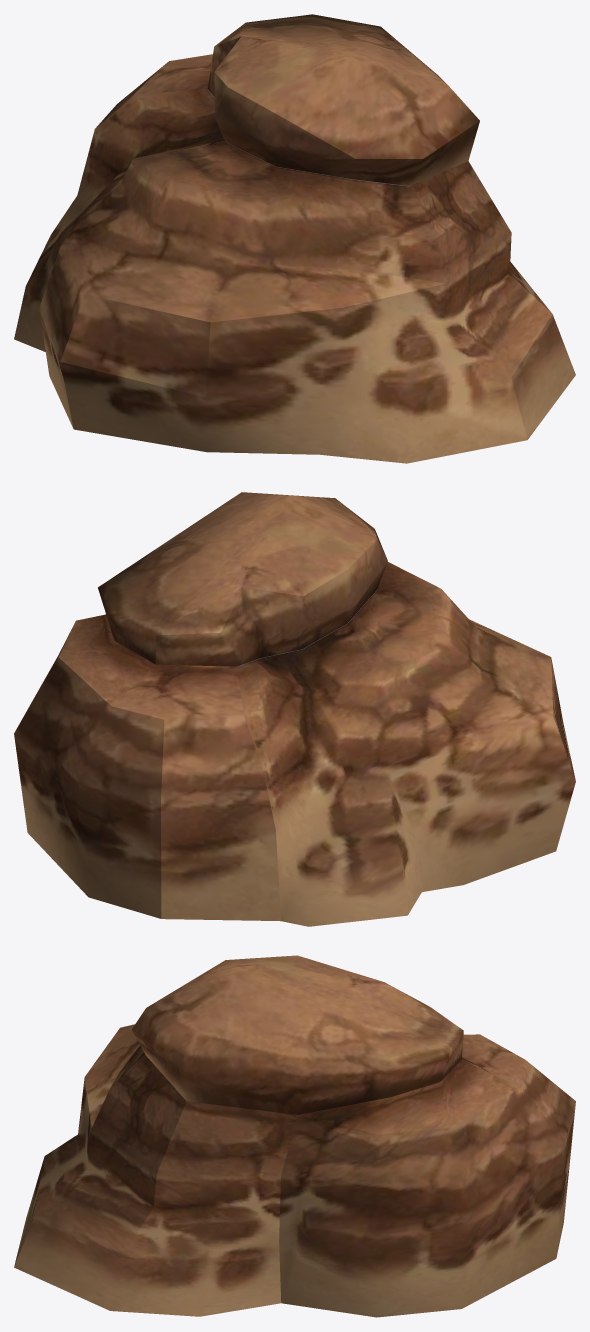
The model's file is shitou04.FBX.
3 renders of one model, top to bottom at view 1: azimuth 30°, elevation 25°; view 2: azimuth 150°, elevation 25°; view 3: azimuth 270°, elevation 25°, orthographic. The views are drawn at different scales.
Visible parts, largest first — view 1: shitou04; view 2: shitou04; view 3: shitou04.
Boxes of the visible parts, box(x1,y1,x2,y2) form: shitou04: box(14, 14, 575, 463); shitou04: box(14, 492, 575, 926); shitou04: box(14, 955, 575, 1317).
Bounding box in the file's own units: 593 × 367 × 669.
